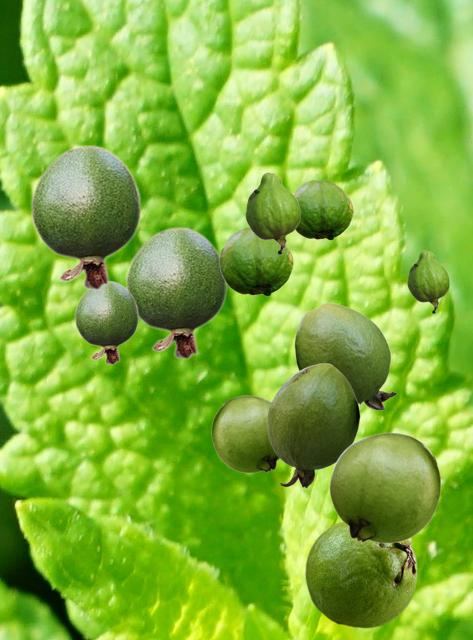guava: (30, 144, 141, 290), (125, 226, 227, 359), (329, 432, 440, 542), (305, 521, 416, 627), (267, 363, 359, 487), (294, 302, 396, 409), (74, 280, 138, 364), (211, 395, 279, 472), (219, 226, 292, 295), (245, 172, 299, 253), (293, 179, 352, 239), (407, 250, 448, 312)
